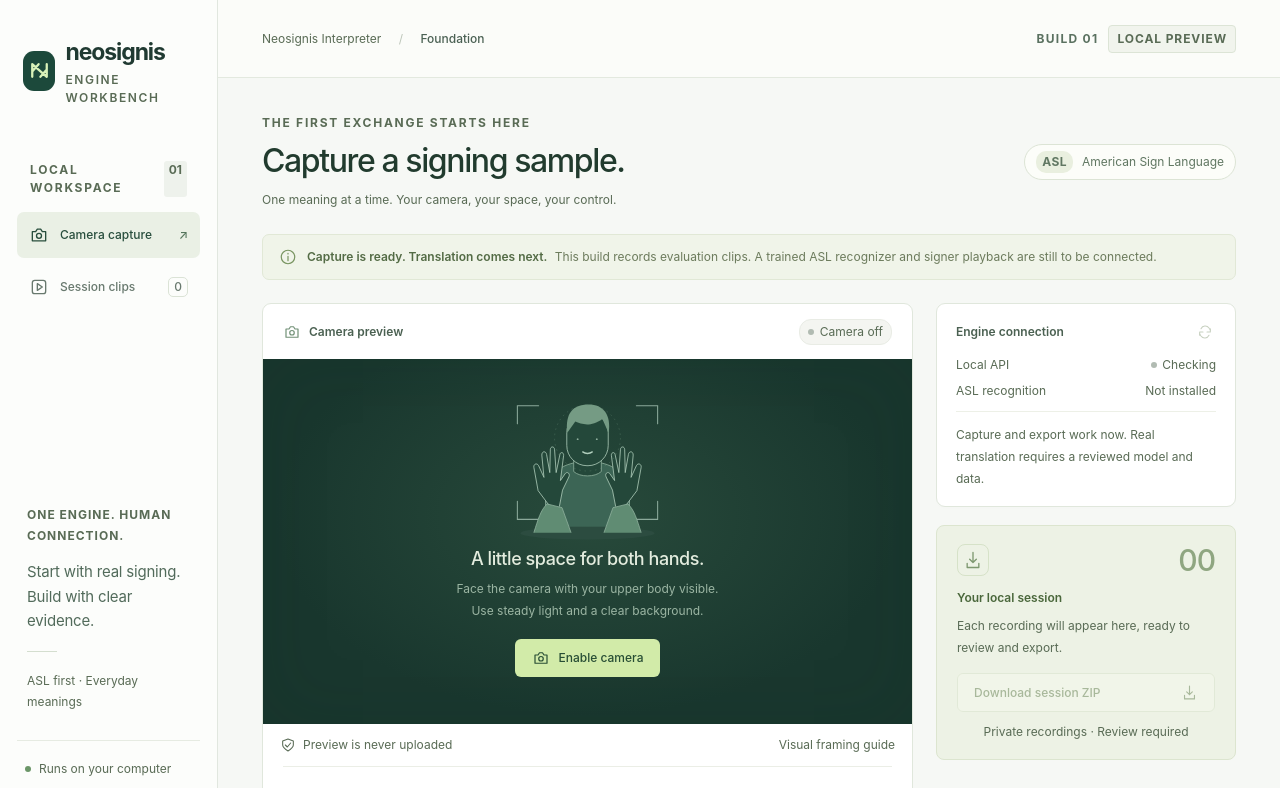
Test: local camera workbench › stops a stream that resolves after its permission request was cancelled
This screenshot has width=1280, height=788.
Click the button "Enable camera" at (587, 658), box [514,638,660,676]
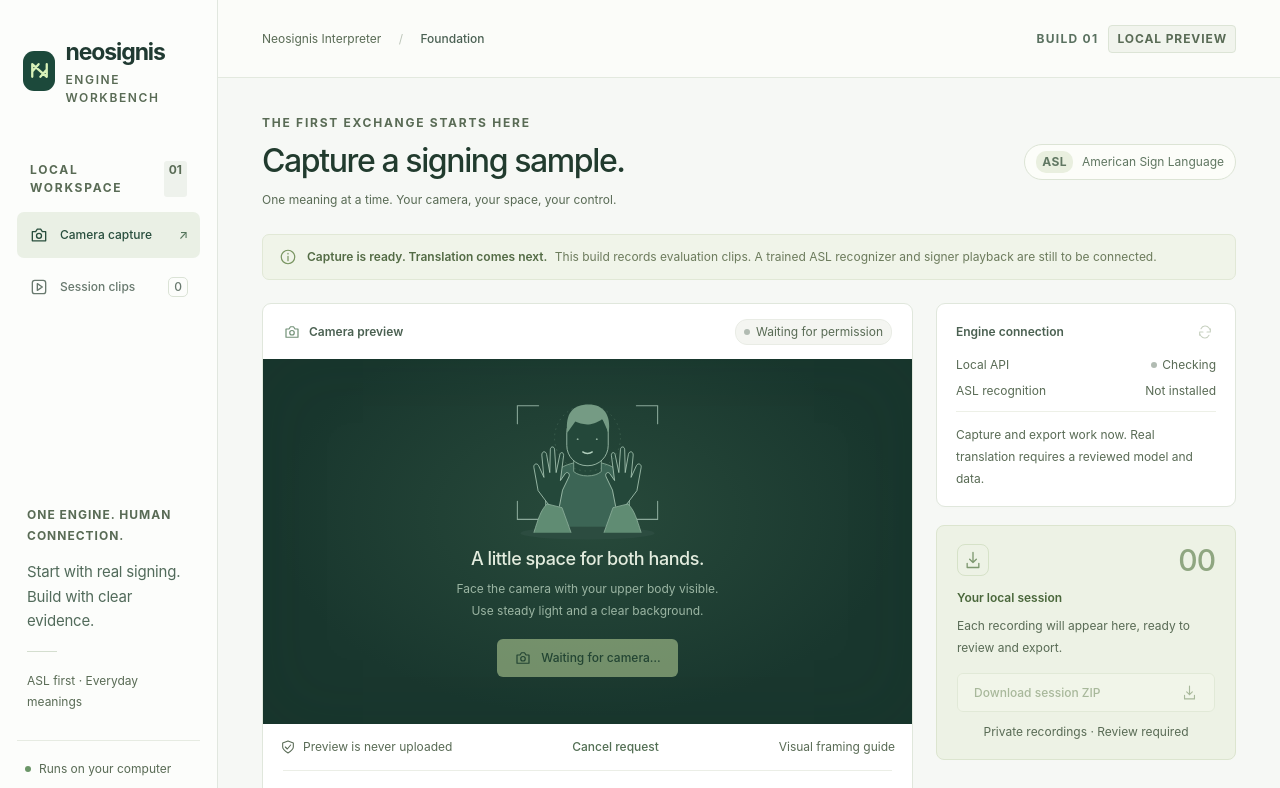
Click the button "Cancel request" at (616, 748), box [572,734,659,760]
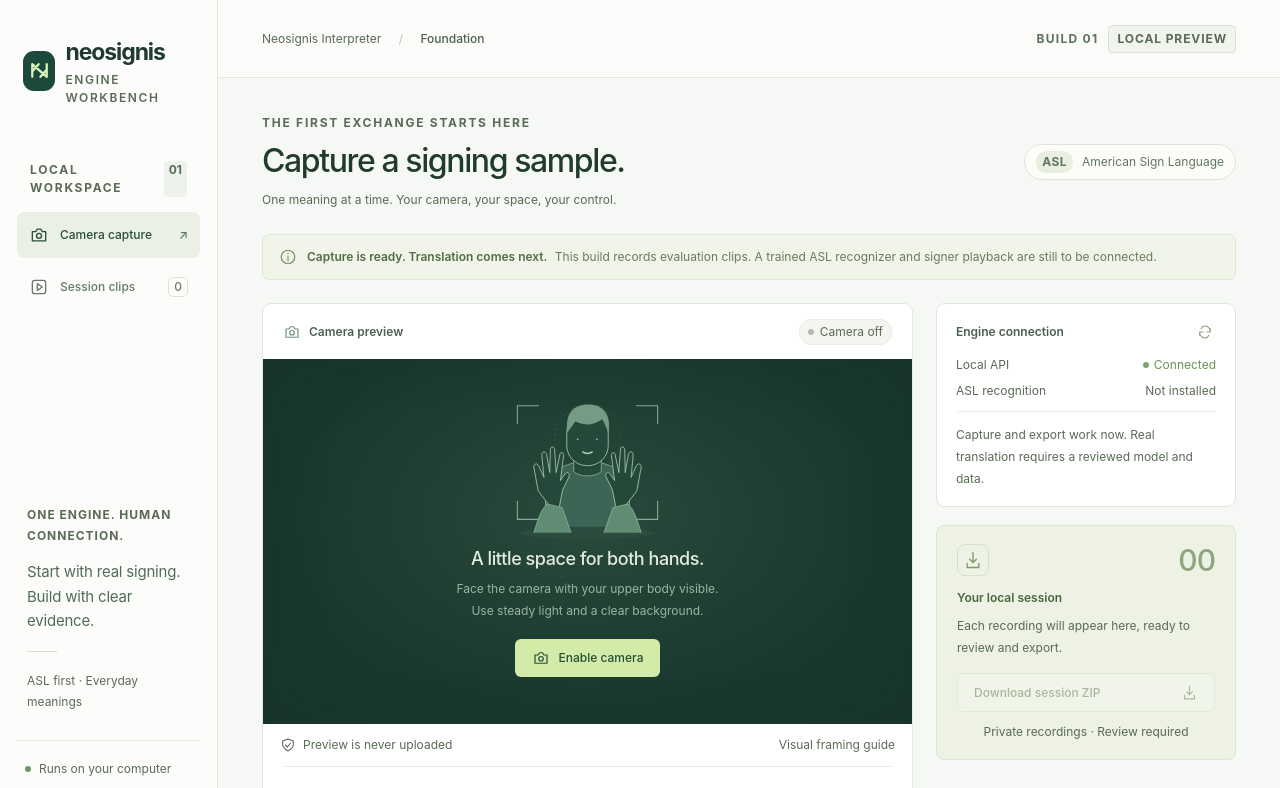
Now the text "Camera off" is shown, box [799,319,892,345]
